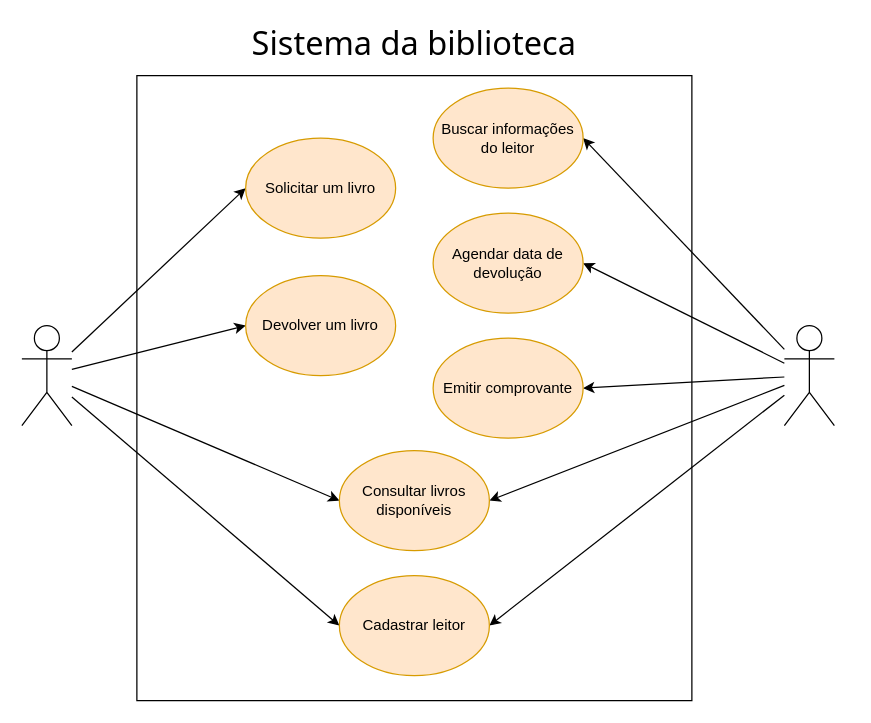
The diagram is 871 pixels wide and 723 high, and some of its shapes have lost their labels. Here are the shapes that lost their labels. From the top down, the centre of each, then its label:
point 46,375: Leitor
point 808,375: Bibliotecário
